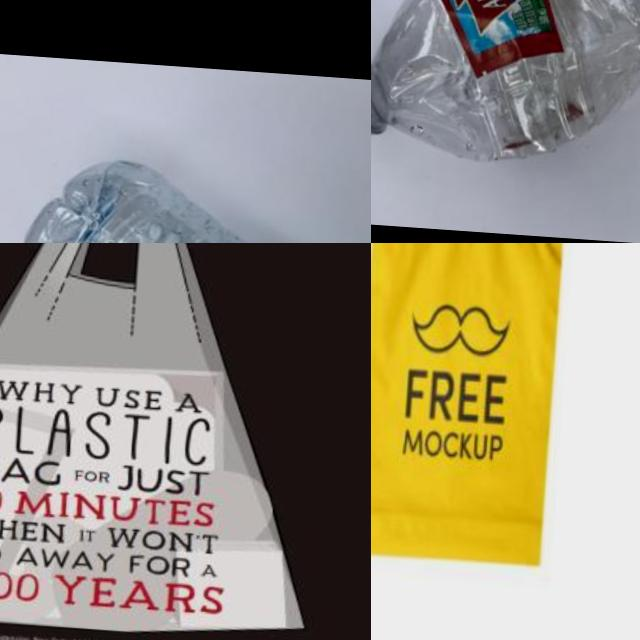garrafa plástica: (371, 0, 640, 188), (0, 147, 371, 243)
sacola plástica: (0, 243, 366, 640), (371, 243, 588, 576)
tampa plástica: (371, 58, 390, 142)
